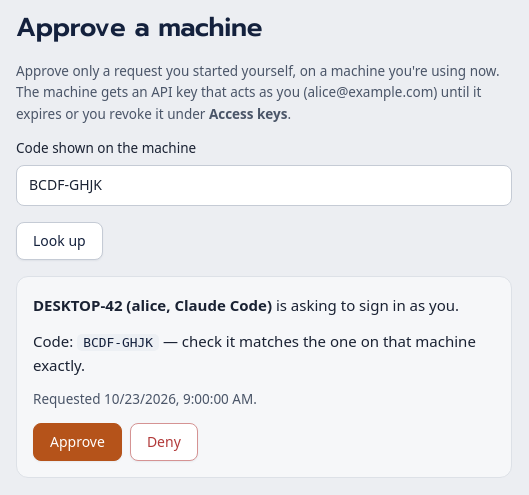
Test: DeviceApproval › denies a request
Click the button "Deny". click: (164, 442)
box: [130, 423, 198, 461]
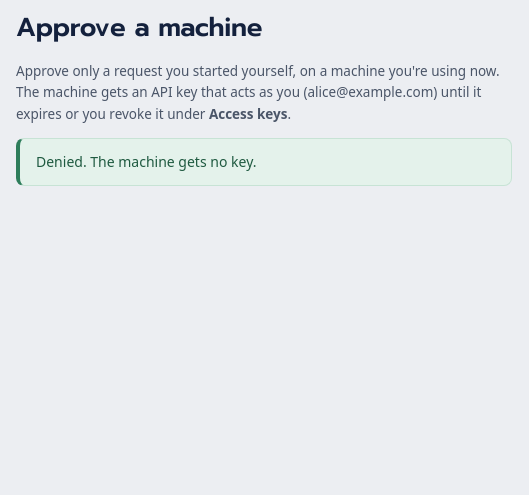
Expected: the message shows "Denied", [36, 152, 256, 171]
